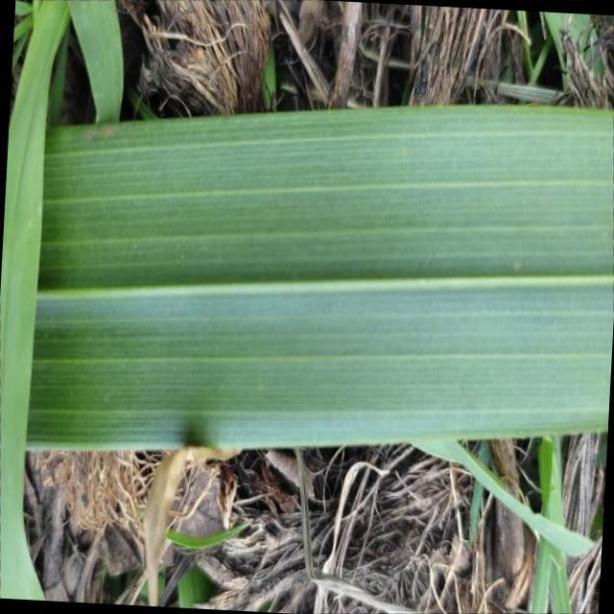Healthy: (0, 100, 614, 452)
